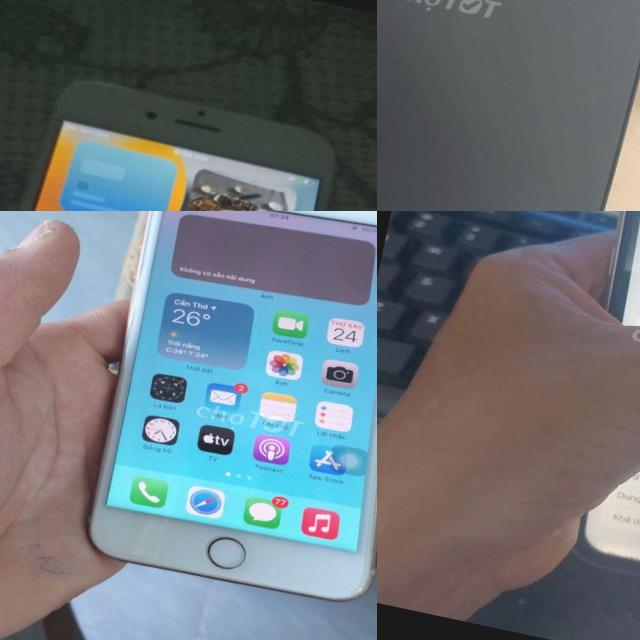gen_11: (547, 211, 640, 613)
gen_14: (377, 0, 640, 211)
gen_6: (0, 52, 369, 211)
gen_7_8: (59, 211, 377, 616)
